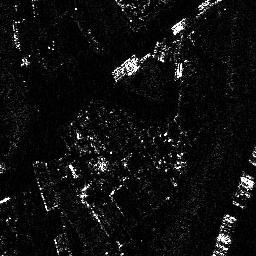ship: (111, 52, 140, 80)
